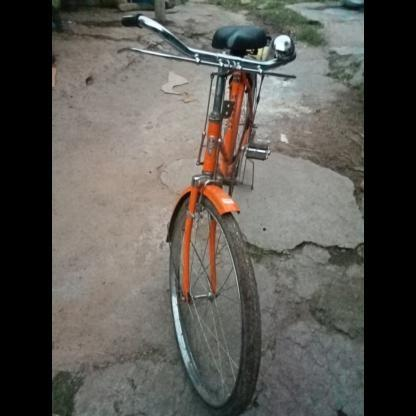Bicycle: (96, 0, 328, 415)
